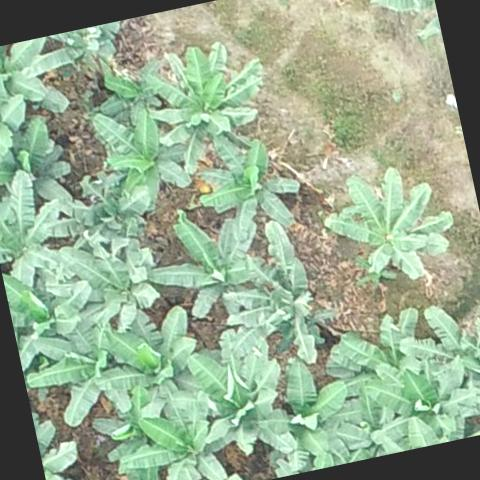Banana-plant: (320, 156, 462, 288), (150, 42, 276, 170), (18, 312, 152, 431), (92, 306, 212, 415), (235, 222, 321, 370), (154, 208, 268, 310), (258, 361, 357, 477), (360, 361, 474, 456), (190, 345, 291, 452), (195, 130, 304, 229), (96, 102, 188, 214), (41, 171, 150, 263), (116, 398, 232, 480), (0, 163, 70, 286), (64, 240, 157, 330), (0, 115, 76, 214), (0, 33, 70, 115), (0, 71, 30, 159)
